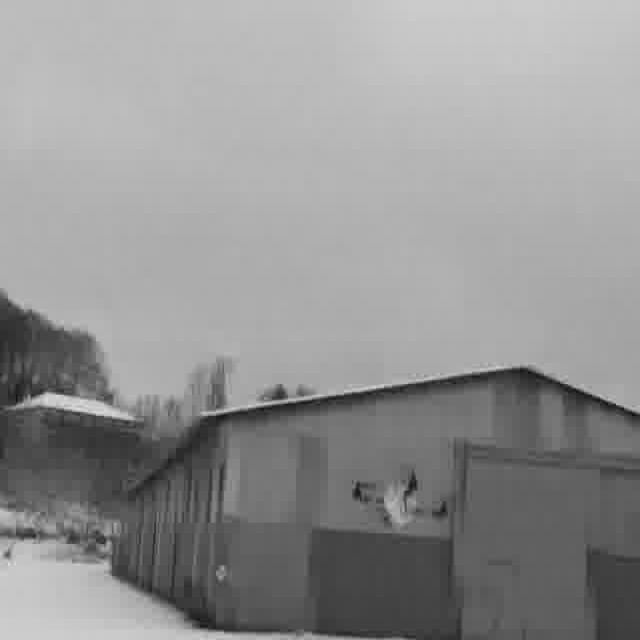drones: (343, 464, 455, 539)
